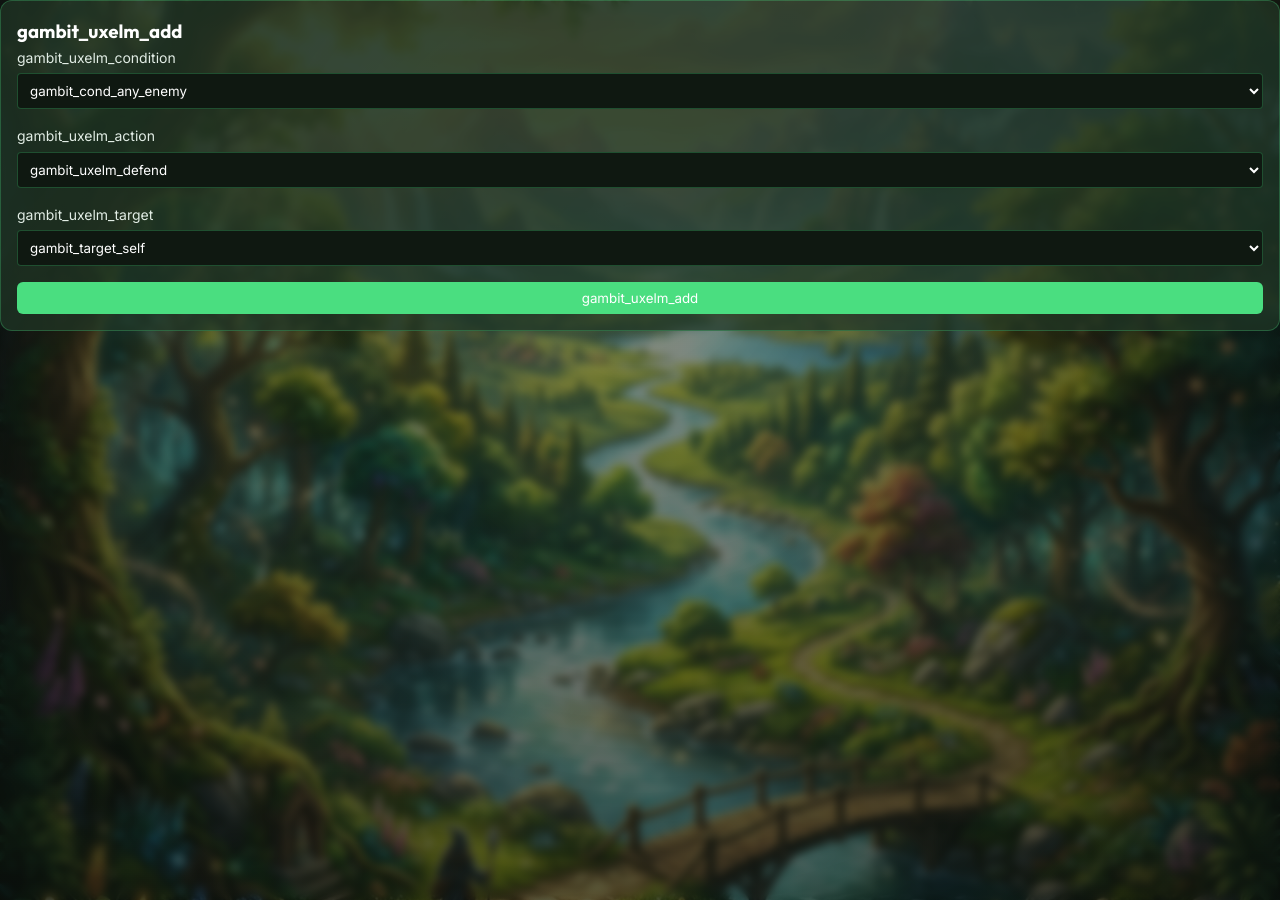
Scenario: GambitForm.vue › shows tier select for technique actions
Select "heroes_info_family_power_strike" in the dropdown below "gambit_uxelm_action" at [640, 170], box [17,152,1263,188]
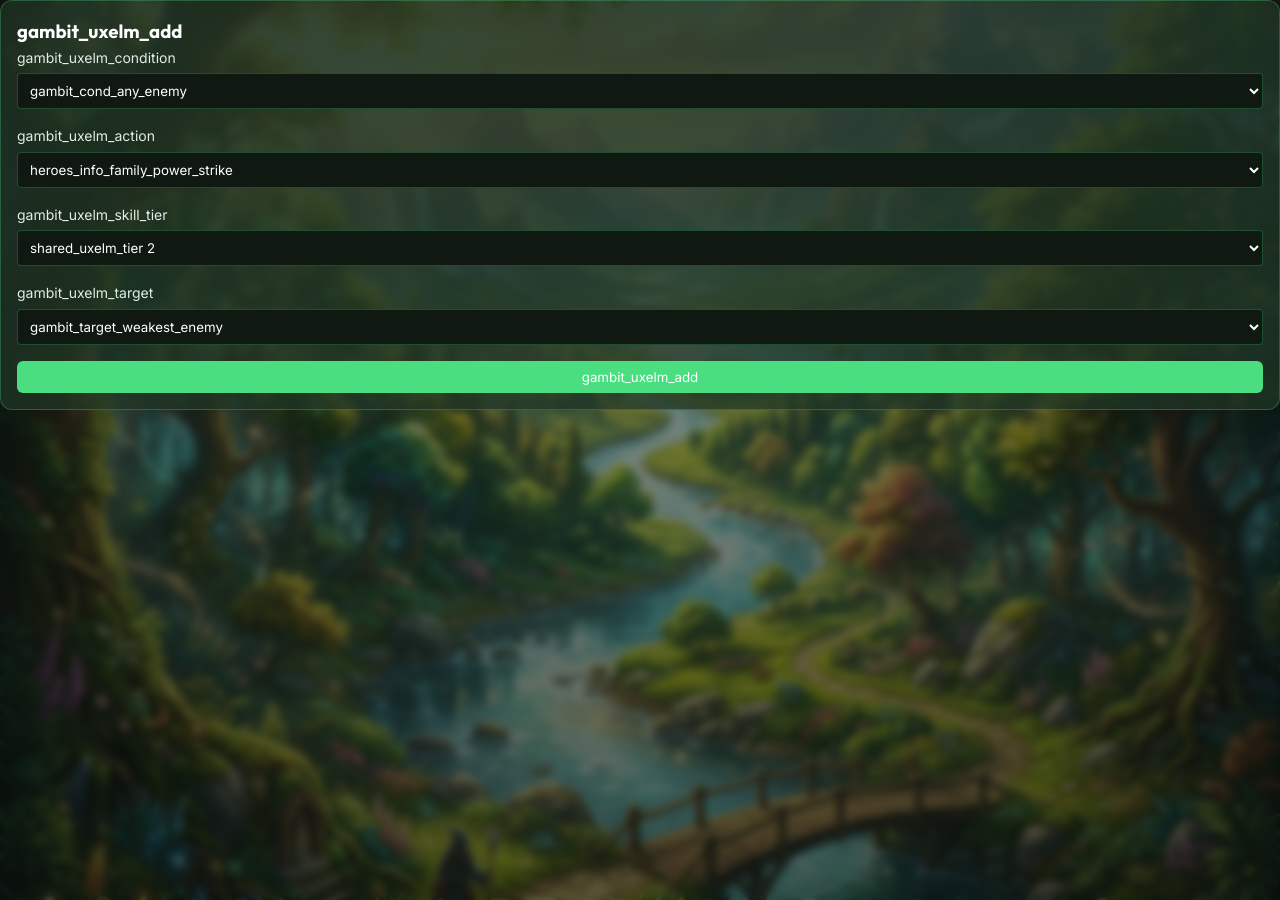
Expected: the number of dropdowns is 4, [17,73,1263,109]; [17,152,1263,188]; [17,230,1263,266]; [17,308,1263,344]
